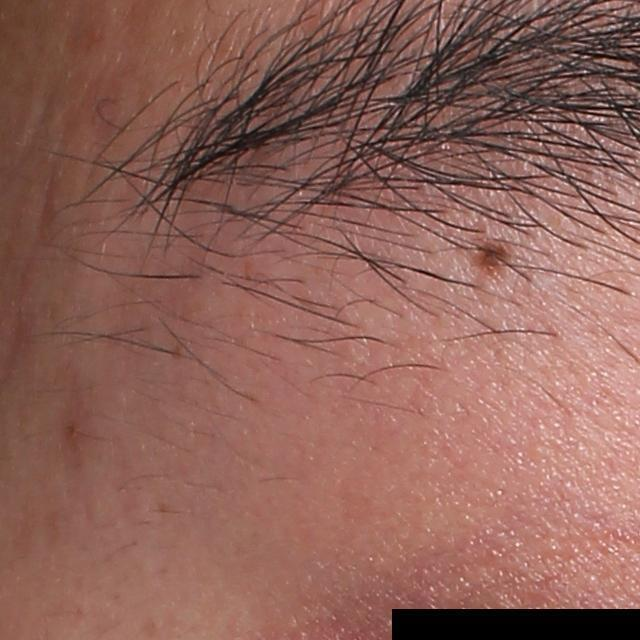nevus: (467, 235, 509, 280)
